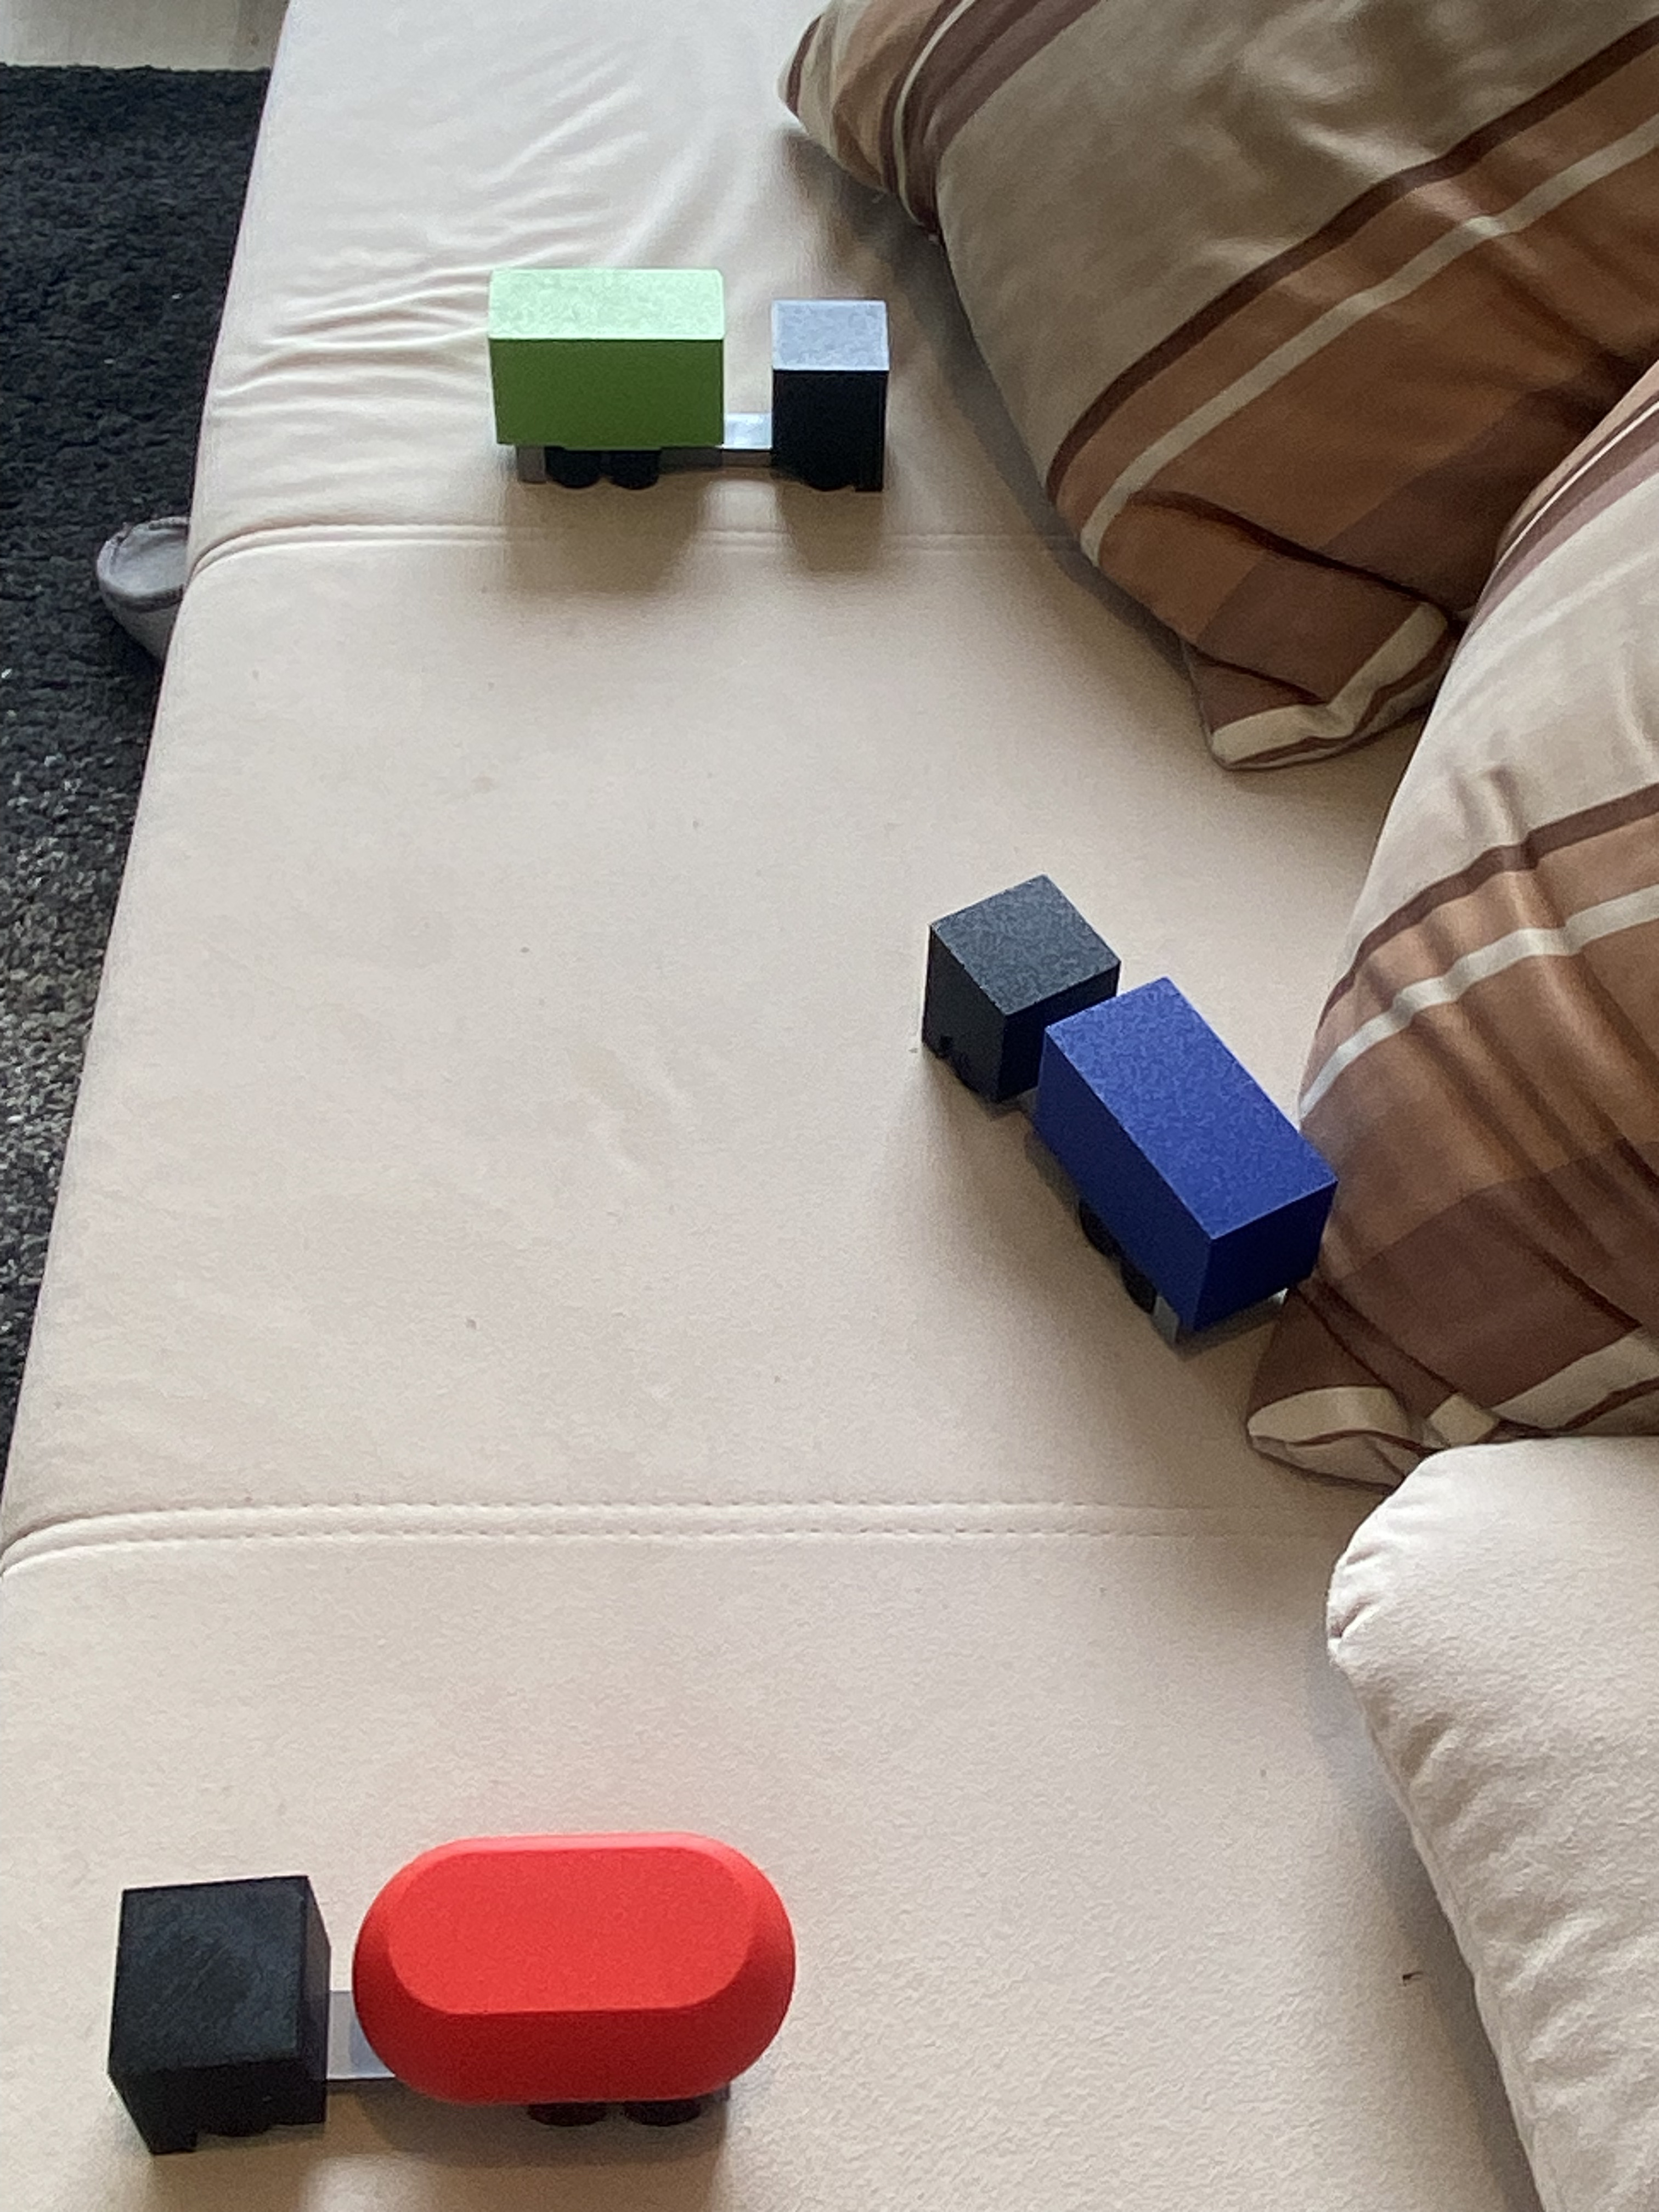blue_truck: (868, 961, 1391, 1233)
green_truck: (566, 169, 821, 575)
red_truck: (92, 1832, 793, 2148)
